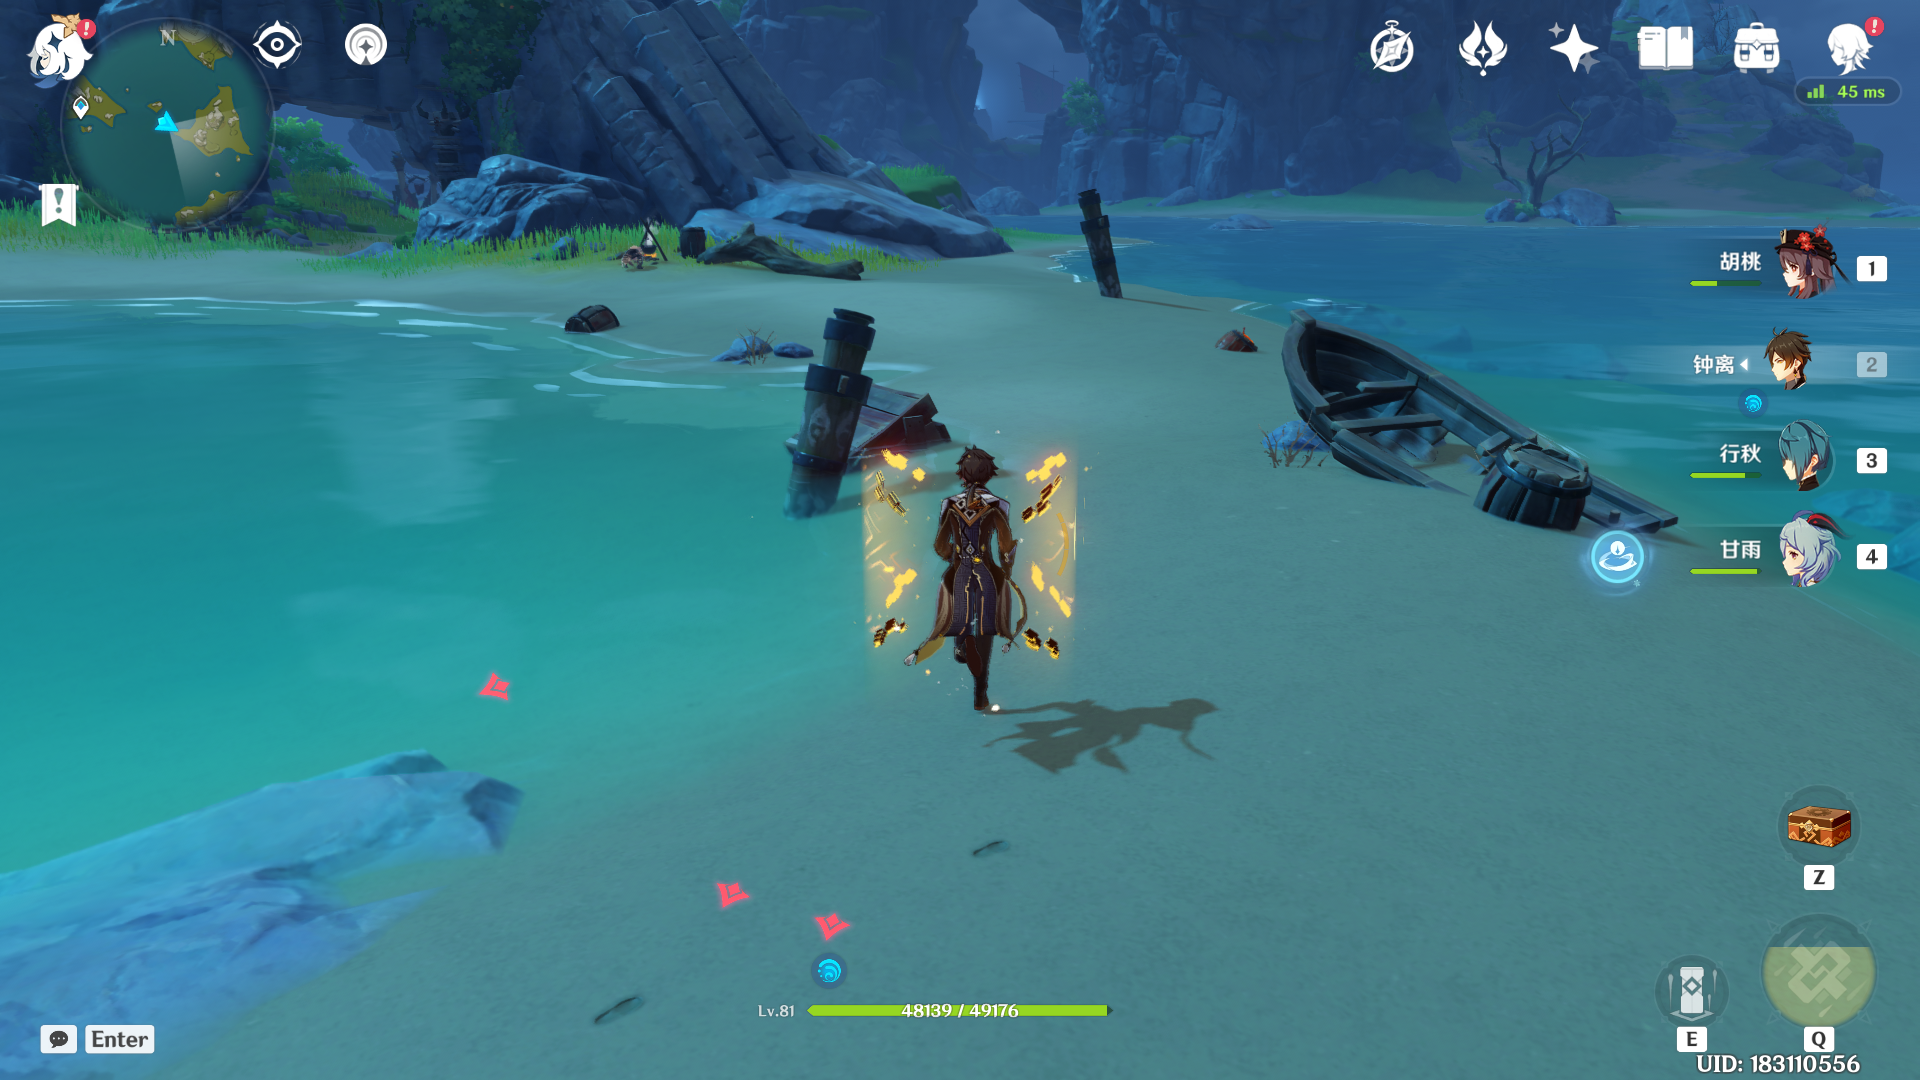character: (862, 402, 1095, 770)
